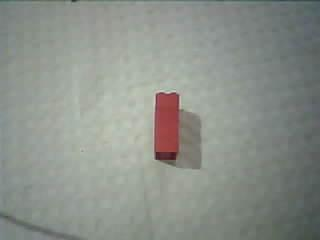lego: (152, 91, 181, 159)
